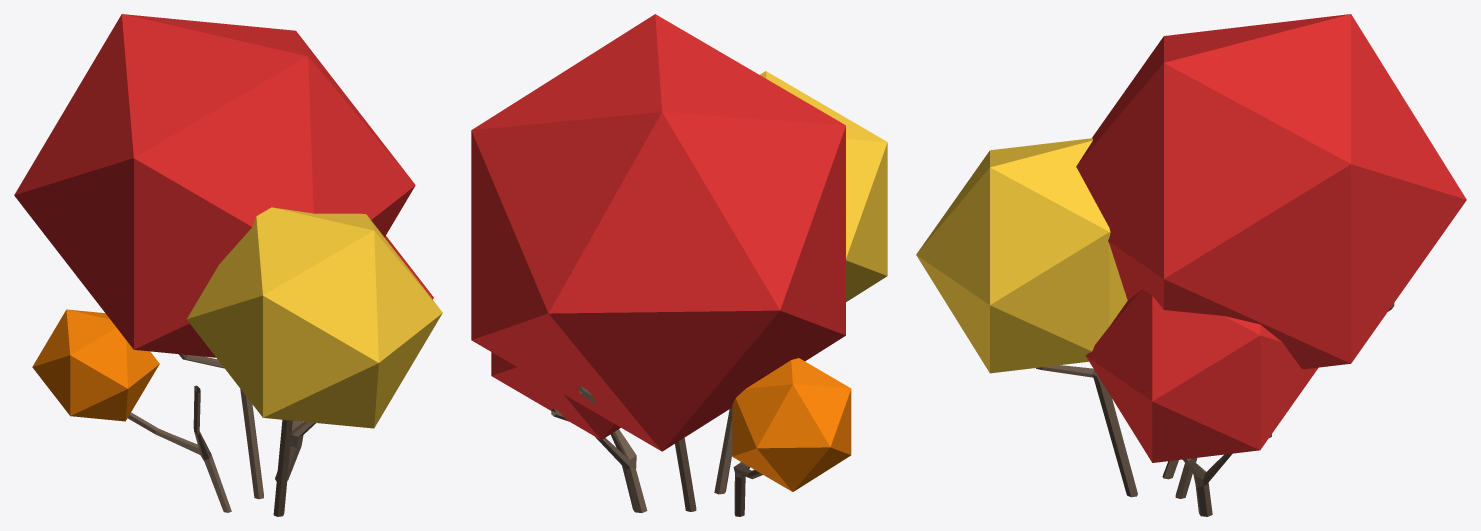
The model's file is Isl_13_Bush_2.fbx.
3 renders of one model, left to right at view 1: azimuth 30°, elevation 25°; view 2: azimuth 150°, elevation 25°; view 3: azimuth 270°, elevation 25°, orthographic. The views are drawn at different scales.
Parts seen in each view (by area): view 1: Isl_13_Bush_2; view 2: Isl_13_Bush_2; view 3: Isl_13_Bush_2.
Boxes of the visible parts, bbox=[...] form: Isl_13_Bush_2: bbox=[14, 14, 442, 516]; Isl_13_Bush_2: bbox=[471, 14, 887, 516]; Isl_13_Bush_2: bbox=[916, 14, 1466, 516].
Size of the model in its own units: 176 by 238 by 217.
Materials: 1 (1 with a texture image).
